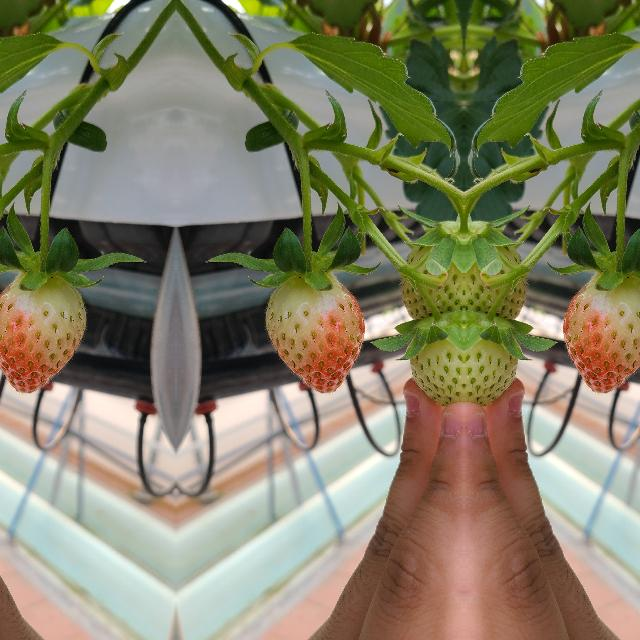Health_25: (390, 212, 462, 324), (464, 212, 536, 324), (399, 318, 463, 409), (463, 318, 527, 409)
Health_75: (264, 276, 364, 392), (0, 275, 86, 392), (562, 275, 640, 392)
